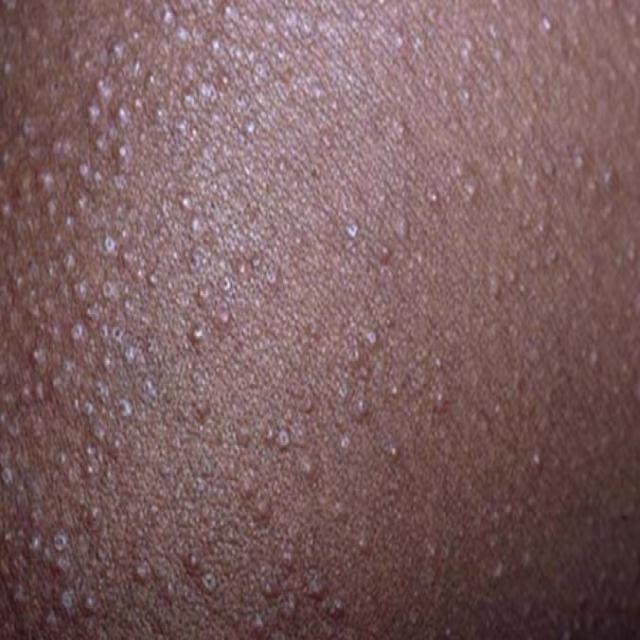fungal: (4, 7, 640, 624)
